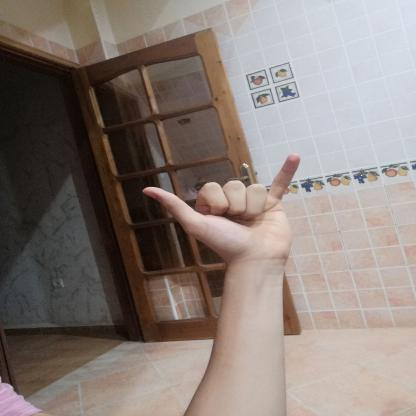YA: (126, 141, 312, 276)
